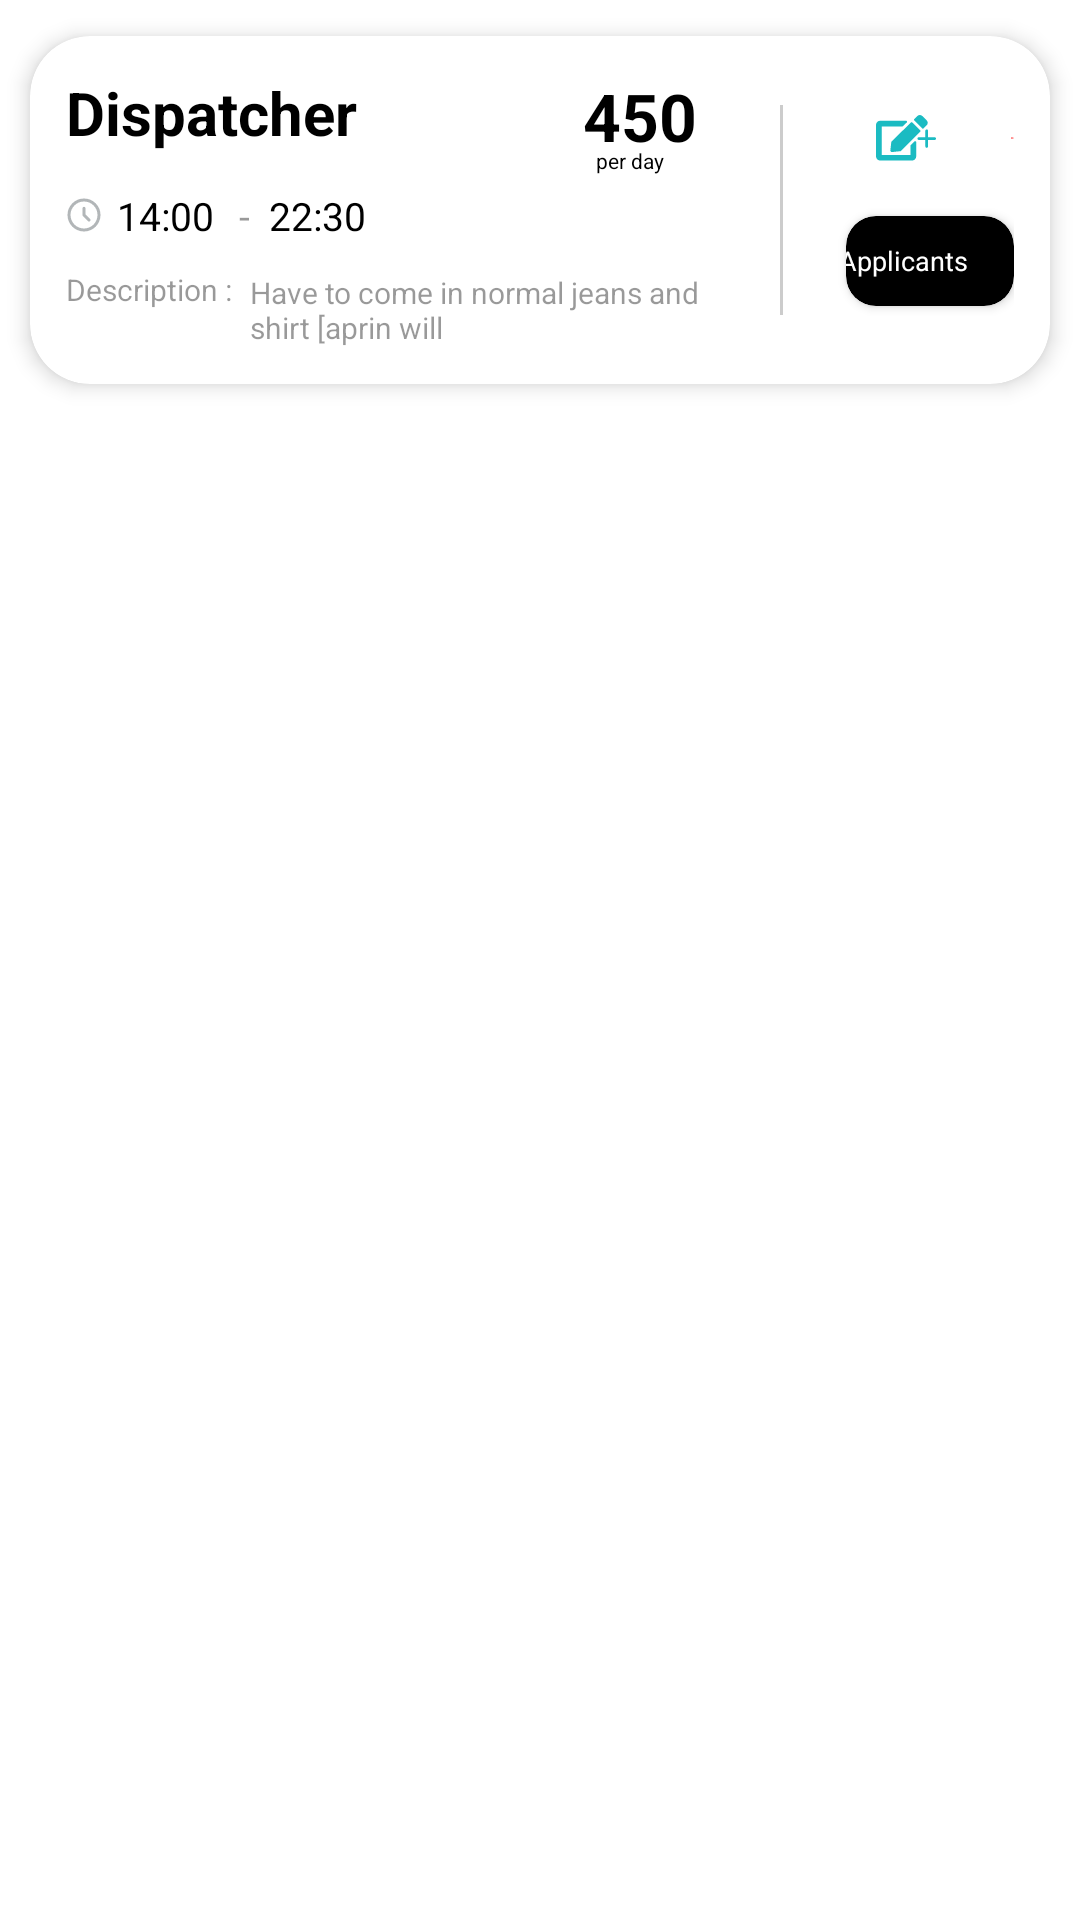

Named icons in this screenshot (1080 x 1920) and their centers, point (x, y):
clock: point (84, 215)
edit: point (906, 138)
